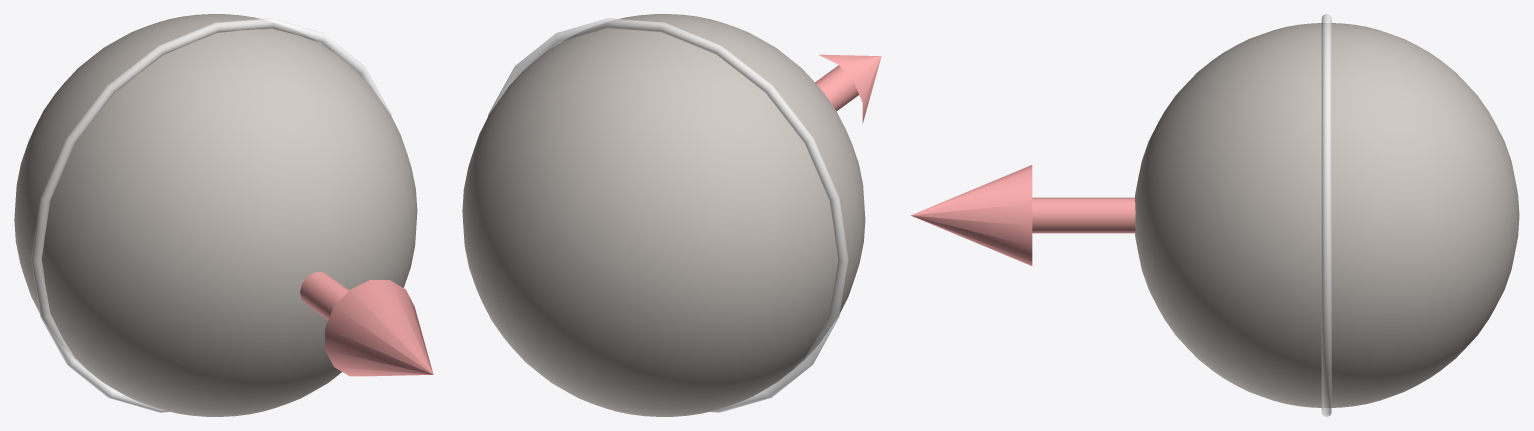
File: mercury.glb
3 views of the same model, side by side, from view 1: azimuth 30°, elevation 25°; view 2: azimuth 150°, elevation 25°; view 3: azimuth 270°, elevation 25° (orthographic). The views are drawn at different scales.
Parts seen in each view (by area): view 1: mercury, size_annotation, diameter_marker; view 2: mercury, diameter_marker, size_annotation; view 3: mercury, size_annotation, diameter_marker.
Boxes of the visible parts, x1,y1,x2,y2 form: mercury: [14, 14, 417, 416]; size_annotation: [300, 272, 433, 376]; diameter_marker: [31, 18, 391, 412]; mercury: [462, 14, 865, 416]; diameter_marker: [488, 18, 848, 412]; size_annotation: [815, 54, 881, 123]; mercury: [1135, 23, 1519, 407]; size_annotation: [910, 165, 1135, 265]; diameter_marker: [1321, 14, 1331, 416].
Bounding box in the file's own units: 0.9701 × 0.9701 × 1.46.
